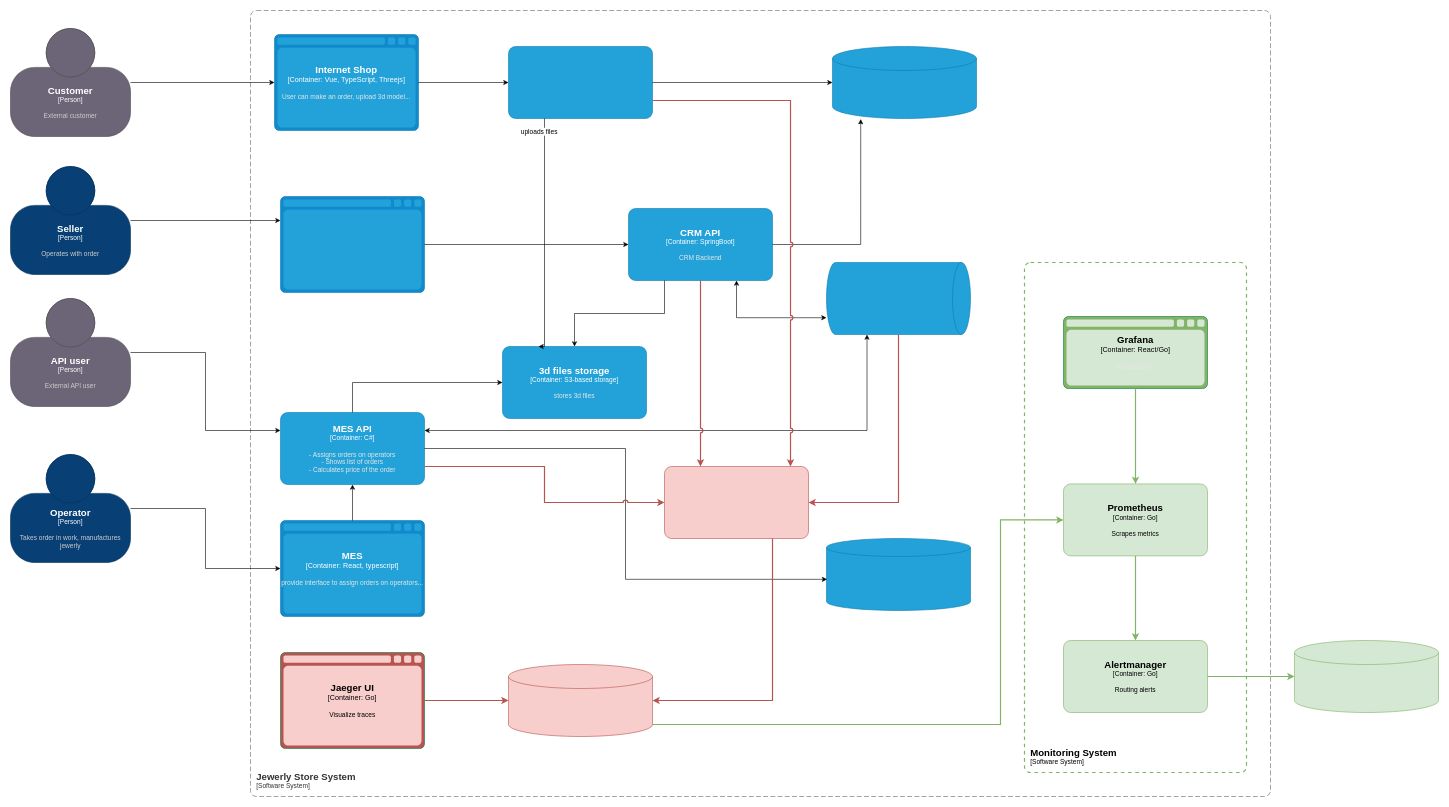
This 1449x807 diagram has some shape labels left out. The centre of each missing label's shape, as x and y in pixels:
CRM [Container: Vue, Typescript] Web CRM: (352,244)
Jaeger Collector [Container: Go] Collects tracing spans: (736,502)
Jaeger DB [Container: Cassandra/ES] Stores trace data: (580,700)
MES db [Container: PostgreSQL] MES Database: (898,574)
Messages Queue [Container: RabbitMQ] Send messages about new orders...: (898,298)
Notification Channels [External System: Slack/PagerDuty] Receives alerts: (1366,676)
Shop API [Container: SpringBoot] provide list of shop items...: (580,82)
Shop DB [Container: PostgreSQL] Shop Database: (904,82)
